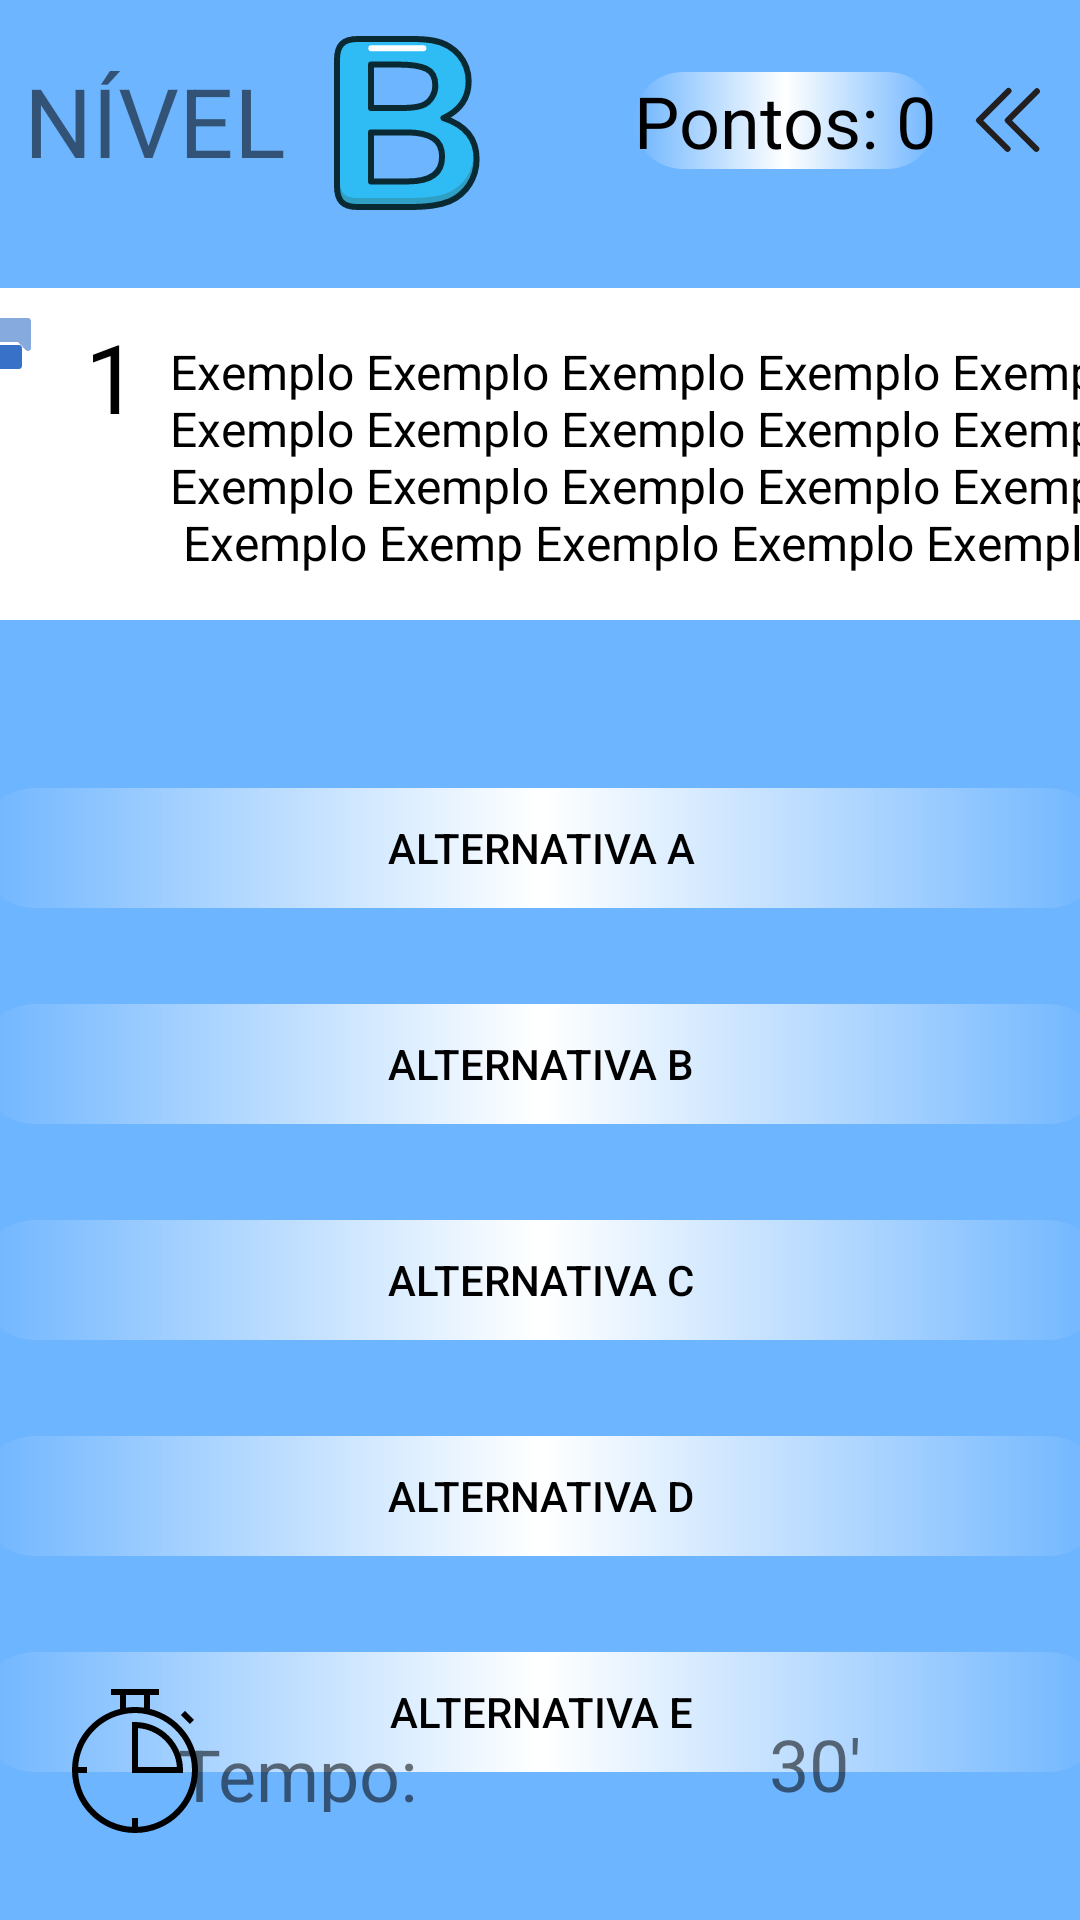

Icons on this 1080*1920 Android screen, each with its box as [x1, y1, x2, y2]:
back: [975, 87, 1040, 152]
count: [70, 1686, 210, 1833]
nivelb: [334, 36, 480, 210]
